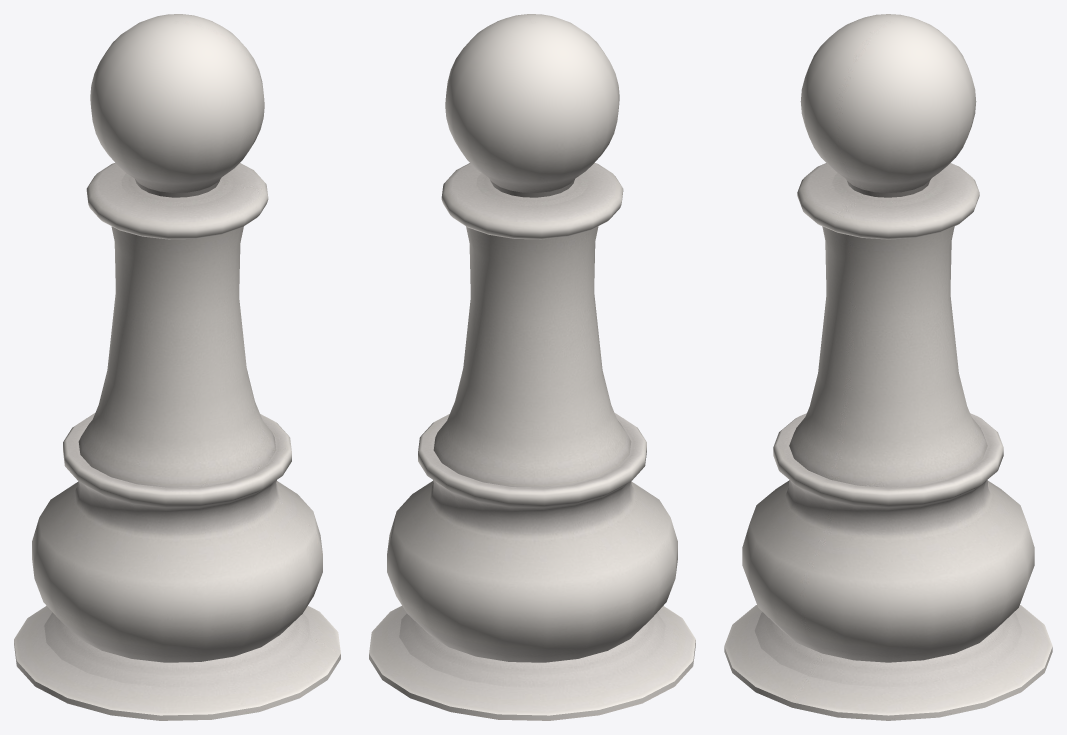
Rendered from White_Pawn.dae.
3 renders of one model, left to right at view 1: azimuth 30°, elevation 25°; view 2: azimuth 150°, elevation 25°; view 3: azimuth 270°, elevation 25°, orthographic.
Parts seen in each view (by area): view 1: Pawn; view 2: Pawn; view 3: Pawn.
Boxes of the visible parts, left/top/right/bottom form: Pawn: left=14, top=14, right=340, bottom=720; Pawn: left=369, top=14, right=695, bottom=720; Pawn: left=724, top=14, right=1052, bottom=720.
Size of the model in its own units: 1.25 by 2.65 by 1.25.
